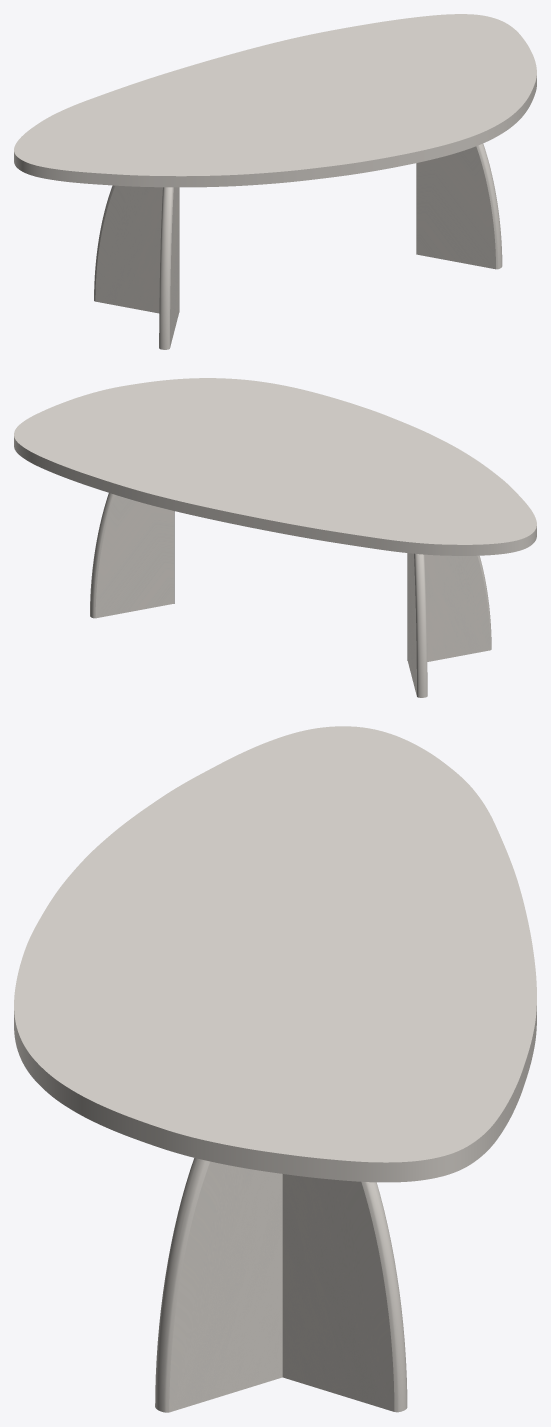
File: pearlwhite_oval_standard_newtable2.glb
3 renders of one model, top to bottom at view 1: azimuth 30°, elevation 25°; view 2: azimuth 150°, elevation 25°; view 3: azimuth 270°, elevation 25°, orthographic. The views are drawn at different scales.
Parts seen in each view (by area): view 1: standard_pebbletop, newtable2_singleright2, newtable2_singleleft1, newtable2_singleright1; view 2: standard_pebbletop, newtable2_singleleft2, newtable2_singleright1, newtable2_singleleft1; view 3: standard_pebbletop, newtable2_singleright2, newtable2_singleleft2.
Boxes of the visible parts, x1,y1,x2,y2 form: standard_pebbletop: (14,14,536,187); newtable2_singleright2: (416,143,502,269); newtable2_singleleft1: (94,185,179,313); newtable2_singleright1: (159,187,179,349); standard_pebbletop: (14,378,536,555); newtable2_singleleft2: (90,493,173,618); newtable2_singleright1: (407,553,491,661); newtable2_singleleft1: (407,553,427,697); standard_pebbletop: (14,726,536,1182); newtable2_singleright2: (155,1158,282,1412); newtable2_singleleft2: (282,1174,407,1412).
Bounding box in the file's own units: 7.5 × 2.5 × 3.8.
1 material, 1 textured.
